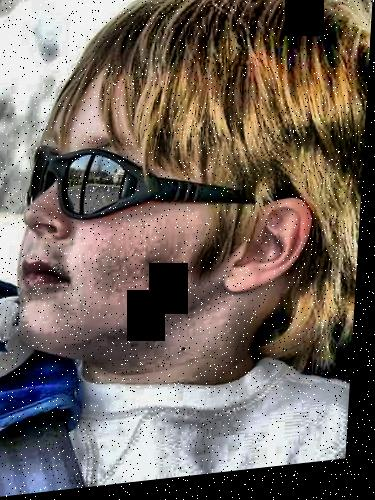seatbelt: (0, 369, 99, 496)
